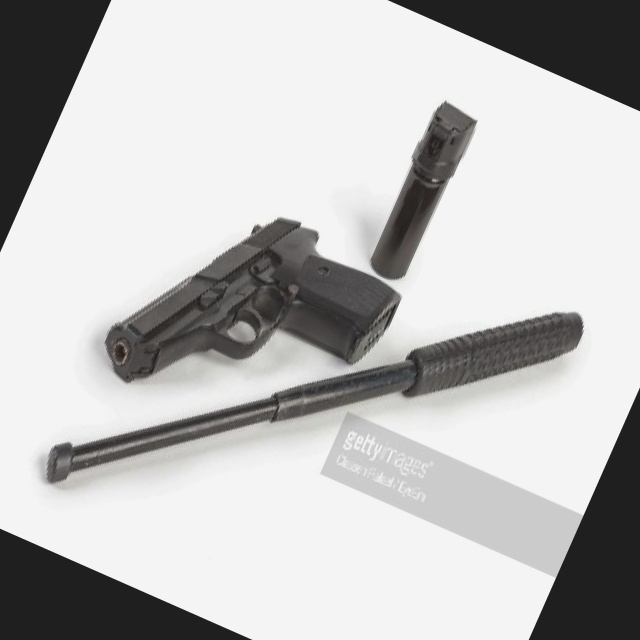gun: (85, 160, 423, 472)
